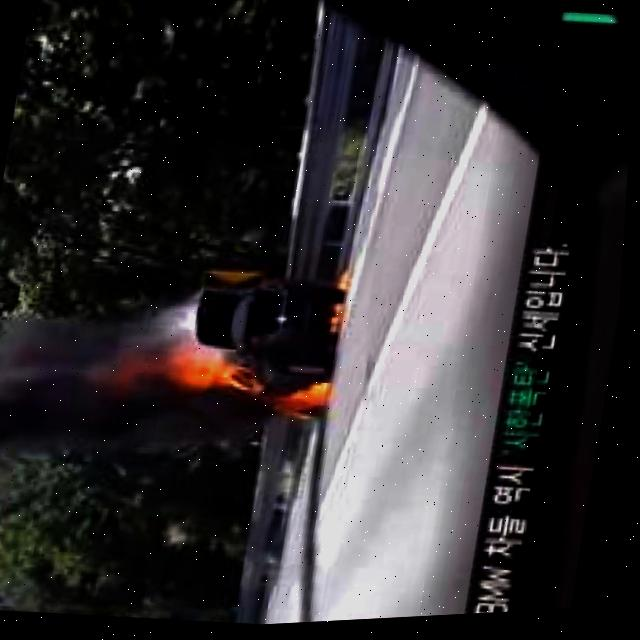Fire: (274, 374, 334, 422), (187, 353, 246, 396)
Smoke: (0, 293, 136, 522)
